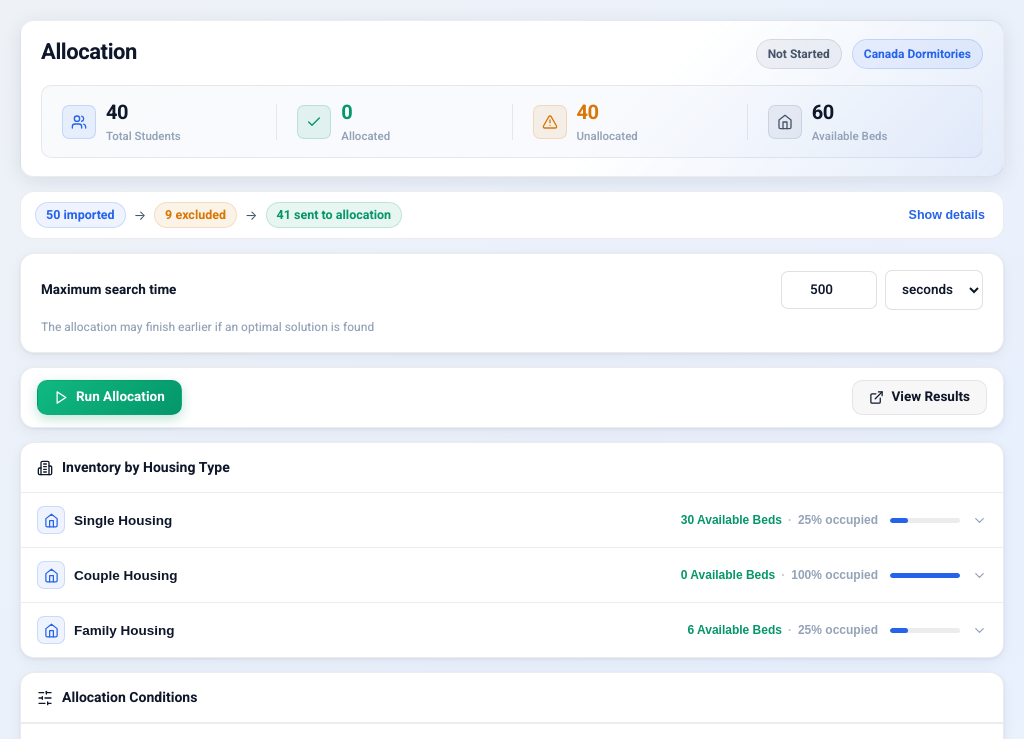
it: AllocationPage start › starts a run for the user region with the configured search time and constraints and shows it queued
The width and height of the screenshot is (1024, 739).
Expected: the button "View Results" is shown, [852, 380, 987, 415]
Expected: the text "Not Started" is shown, [756, 39, 842, 69]
Click the button "Run Allocation". click: (109, 398)
box: [37, 380, 182, 415]
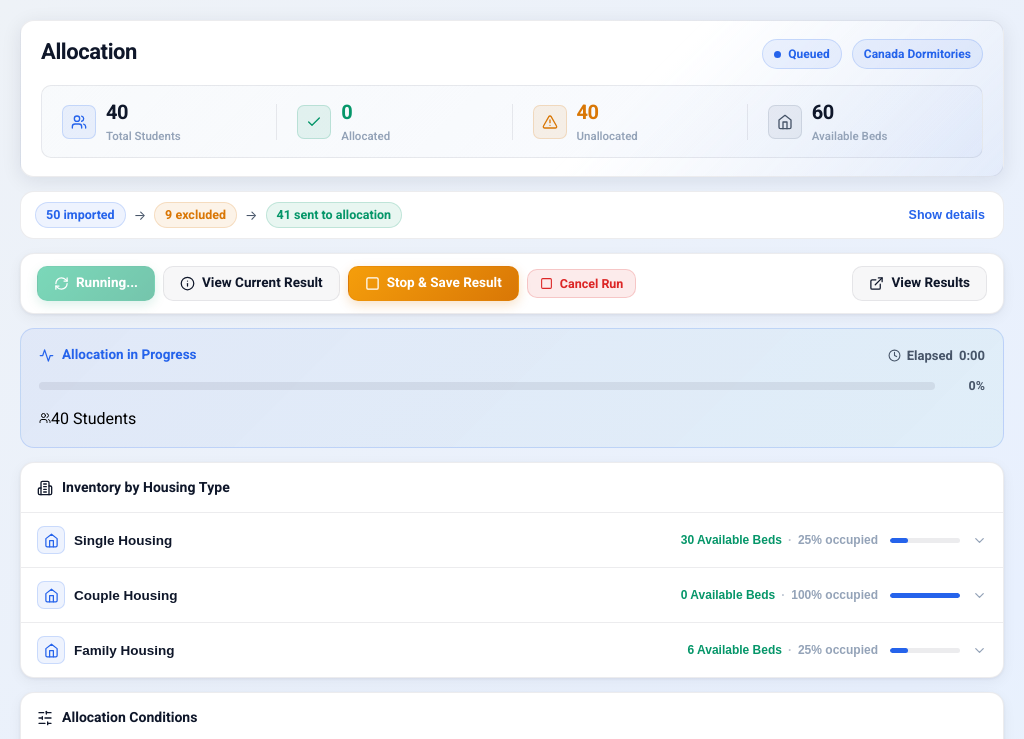
Now the text "Queued" is shown, box [762, 39, 842, 69]
Now the button "Running..." is disabled, box [37, 266, 155, 301]
Now the button "View Current Result" is enabled, box [163, 266, 340, 301]
